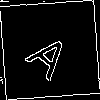A: (25, 25, 81, 82)
